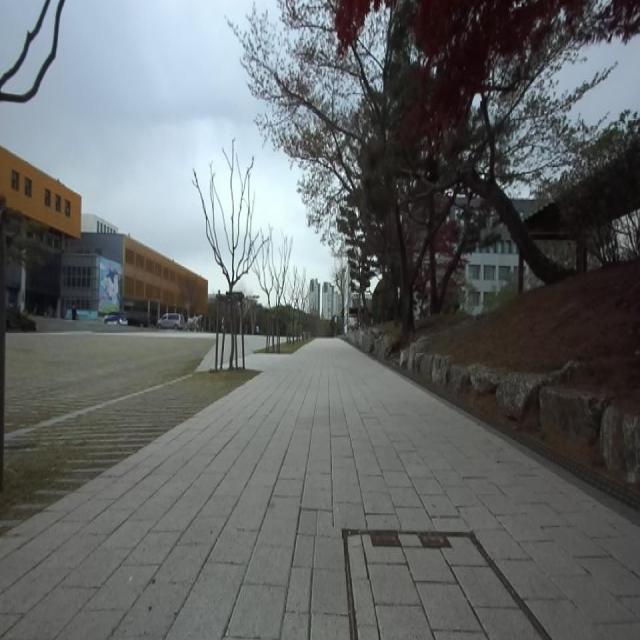sidewalk: (0, 339, 640, 639), (246, 335, 280, 371), (246, 353, 286, 370), (196, 346, 215, 371), (223, 333, 230, 368), (238, 334, 242, 367), (218, 334, 221, 368)
